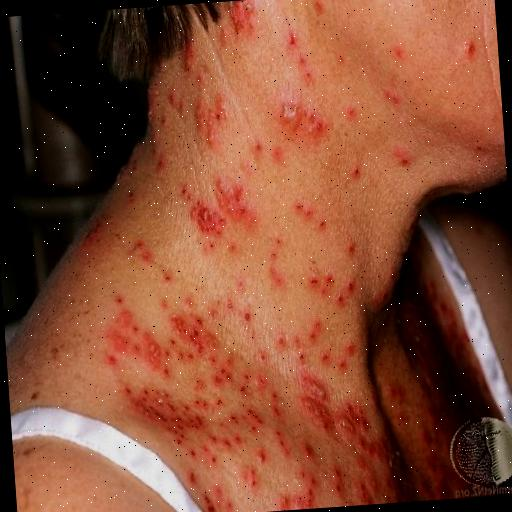Skin_Lesion: (186, 182, 260, 255), (102, 315, 176, 386), (276, 94, 326, 150), (278, 22, 319, 88), (158, 400, 198, 454), (195, 92, 229, 152), (172, 312, 212, 363), (334, 397, 360, 457), (225, 0, 263, 39), (367, 266, 398, 310), (264, 248, 290, 294), (228, 180, 257, 218), (176, 36, 200, 78), (304, 269, 332, 302), (390, 141, 413, 173), (458, 32, 480, 65), (294, 478, 318, 508), (136, 232, 156, 266), (387, 34, 408, 66), (296, 193, 316, 226), (382, 82, 404, 111), (215, 359, 235, 389), (336, 340, 354, 372), (348, 158, 366, 189), (386, 454, 410, 476), (360, 473, 377, 504), (270, 138, 286, 170), (273, 431, 291, 456), (245, 464, 261, 492), (152, 148, 168, 176), (246, 407, 263, 433), (306, 315, 322, 342), (270, 392, 286, 418), (285, 26, 300, 52), (343, 234, 359, 258), (104, 348, 121, 370), (334, 286, 348, 310), (157, 360, 173, 381), (204, 447, 218, 469), (310, 0, 327, 18), (240, 306, 254, 326), (302, 442, 316, 462), (188, 466, 200, 489), (162, 268, 174, 287), (252, 138, 264, 157), (257, 447, 268, 465), (276, 334, 288, 350), (346, 276, 356, 294), (320, 350, 330, 366), (336, 474, 344, 491)
